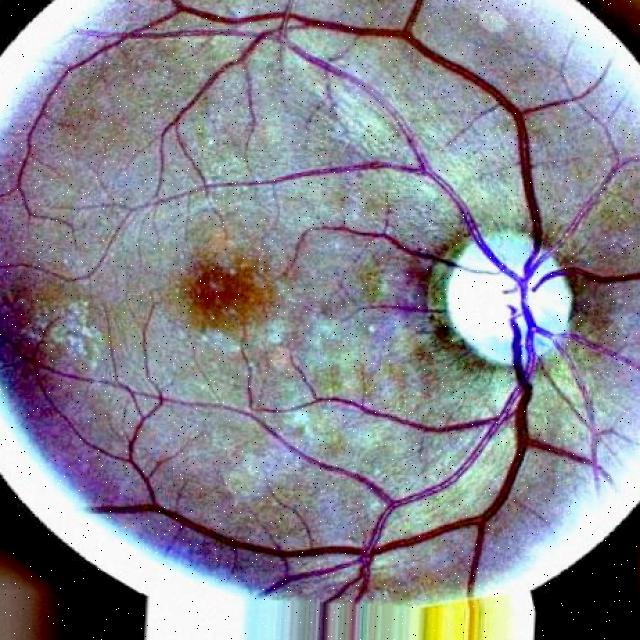Macula: (184, 260, 274, 334)
Nerves: (238, 0, 640, 600), (568, 334, 640, 374), (363, 296, 446, 317)
Optic Disk: (442, 233, 571, 368)
